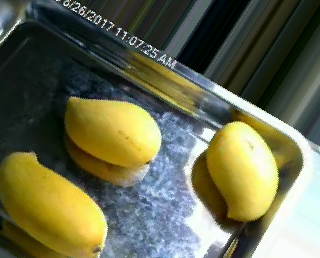Mango: (0, 151, 108, 256), (209, 121, 280, 219), (63, 94, 159, 164)
